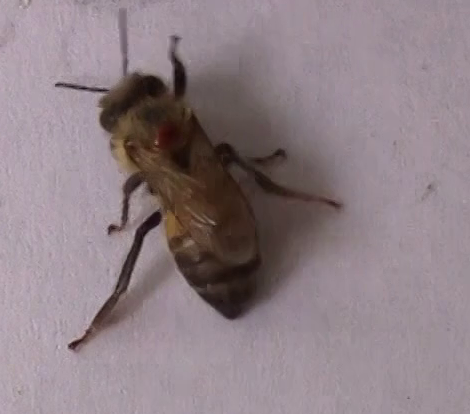Varroa destructor: (148, 117, 186, 152)
